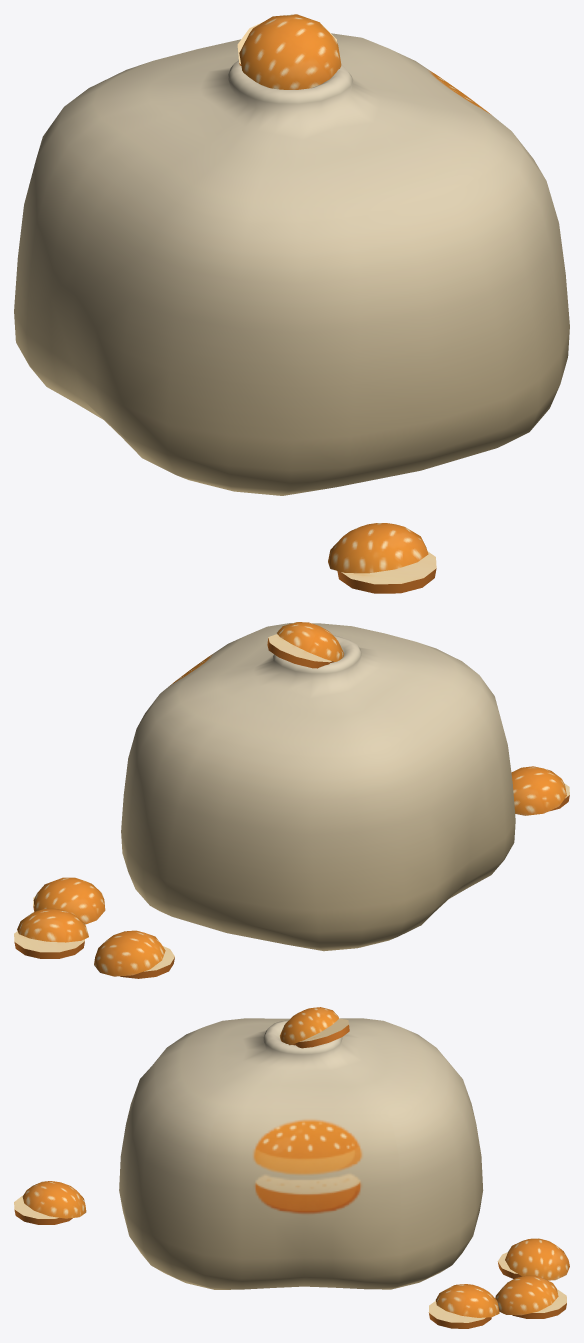
Rendered from DoubleCooked_BreadBag.fbx.
The picture shows the model from 3 angles, top to bottom: view 1: azimuth 30°, elevation 25°; view 2: azimuth 150°, elevation 25°; view 3: azimuth 270°, elevation 25°; orthographic projection. The views are drawn at different scales.
Parts seen in each view (by area): view 1: DoubleCooked_BreadBag; view 2: DoubleCooked_BreadBag; view 3: DoubleCooked_BreadBag.
Boxes of the visible parts, left/top/right/bottom form: DoubleCooked_BreadBag: left=14, top=14, right=569, bottom=593; DoubleCooked_BreadBag: left=14, top=622, right=569, bottom=978; DoubleCooked_BreadBag: left=14, top=1007, right=569, bottom=1328.
Bounding box in the file's own units: 56.2 × 40.72 × 86.55.
Materials: 1 (1 with a texture image).
